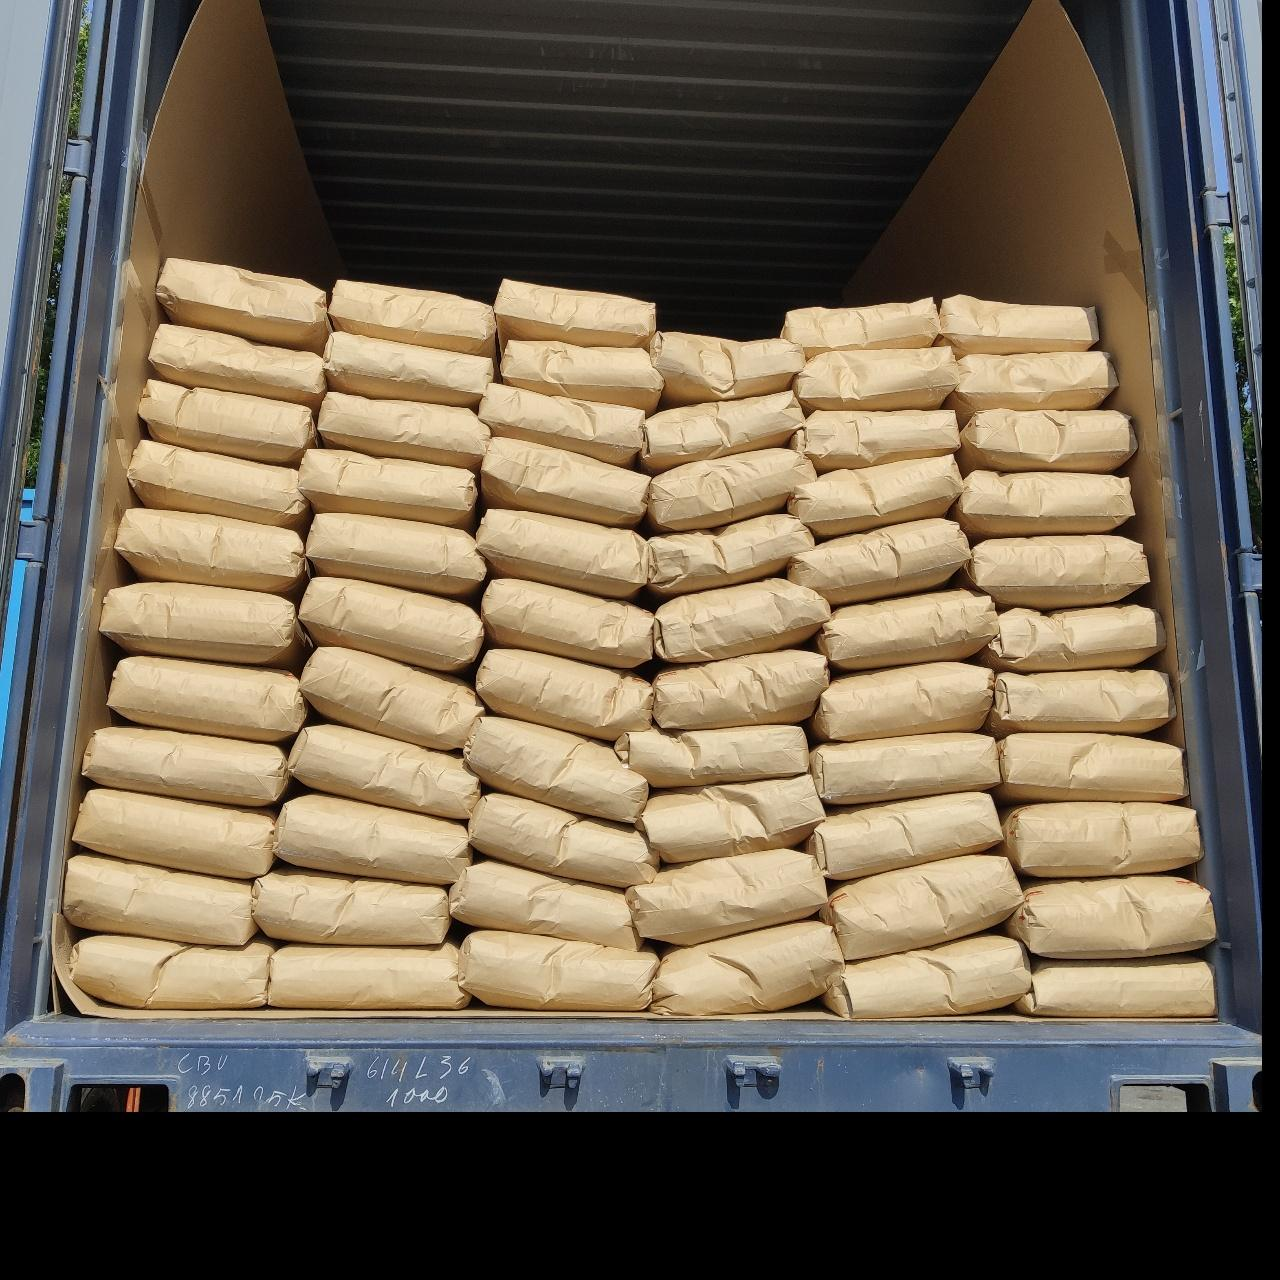sack: (826, 854, 1020, 958), (464, 714, 646, 820), (302, 648, 482, 748), (276, 792, 470, 884), (630, 850, 824, 942), (76, 788, 274, 878), (290, 724, 478, 818), (104, 582, 308, 668), (470, 792, 656, 886), (652, 920, 838, 1014), (822, 934, 1028, 1018), (1006, 874, 1214, 956), (300, 578, 482, 670), (452, 858, 638, 948), (66, 854, 254, 942), (808, 792, 1000, 878), (110, 656, 306, 740), (118, 508, 308, 594), (640, 774, 822, 862), (84, 726, 286, 804), (478, 648, 652, 738), (130, 440, 308, 526), (460, 930, 656, 1008), (482, 578, 654, 666), (786, 518, 966, 602), (158, 260, 326, 350), (478, 508, 648, 596), (1000, 802, 1198, 876), (654, 578, 828, 662), (480, 438, 646, 526), (254, 866, 446, 942), (308, 514, 484, 596), (816, 588, 996, 668), (142, 380, 316, 462), (72, 934, 270, 1006), (810, 662, 992, 740), (150, 326, 326, 406), (648, 448, 814, 532), (300, 448, 476, 526), (480, 382, 646, 464), (648, 514, 812, 596), (652, 650, 828, 726), (788, 456, 958, 534), (964, 536, 1148, 606), (322, 332, 494, 406), (812, 734, 998, 802), (270, 942, 466, 1006), (998, 734, 1182, 802), (642, 392, 802, 470), (320, 394, 486, 468), (980, 604, 1158, 670), (954, 472, 1132, 538), (986, 670, 1168, 734), (1014, 956, 1214, 1014), (616, 726, 806, 786), (330, 282, 494, 350), (650, 332, 802, 404), (958, 410, 1134, 470), (502, 340, 662, 406), (952, 352, 1116, 414), (496, 280, 654, 344), (792, 410, 958, 470), (796, 348, 958, 406), (940, 296, 1096, 354), (784, 298, 938, 356)
